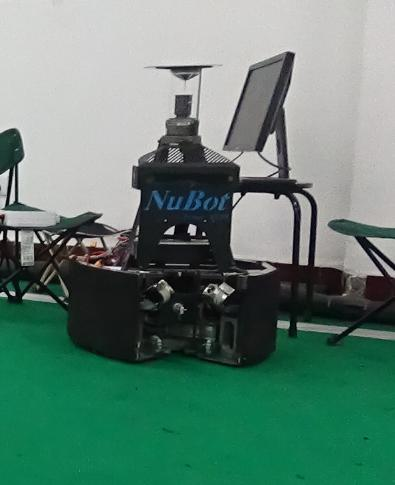robot: (57, 60, 281, 372)
